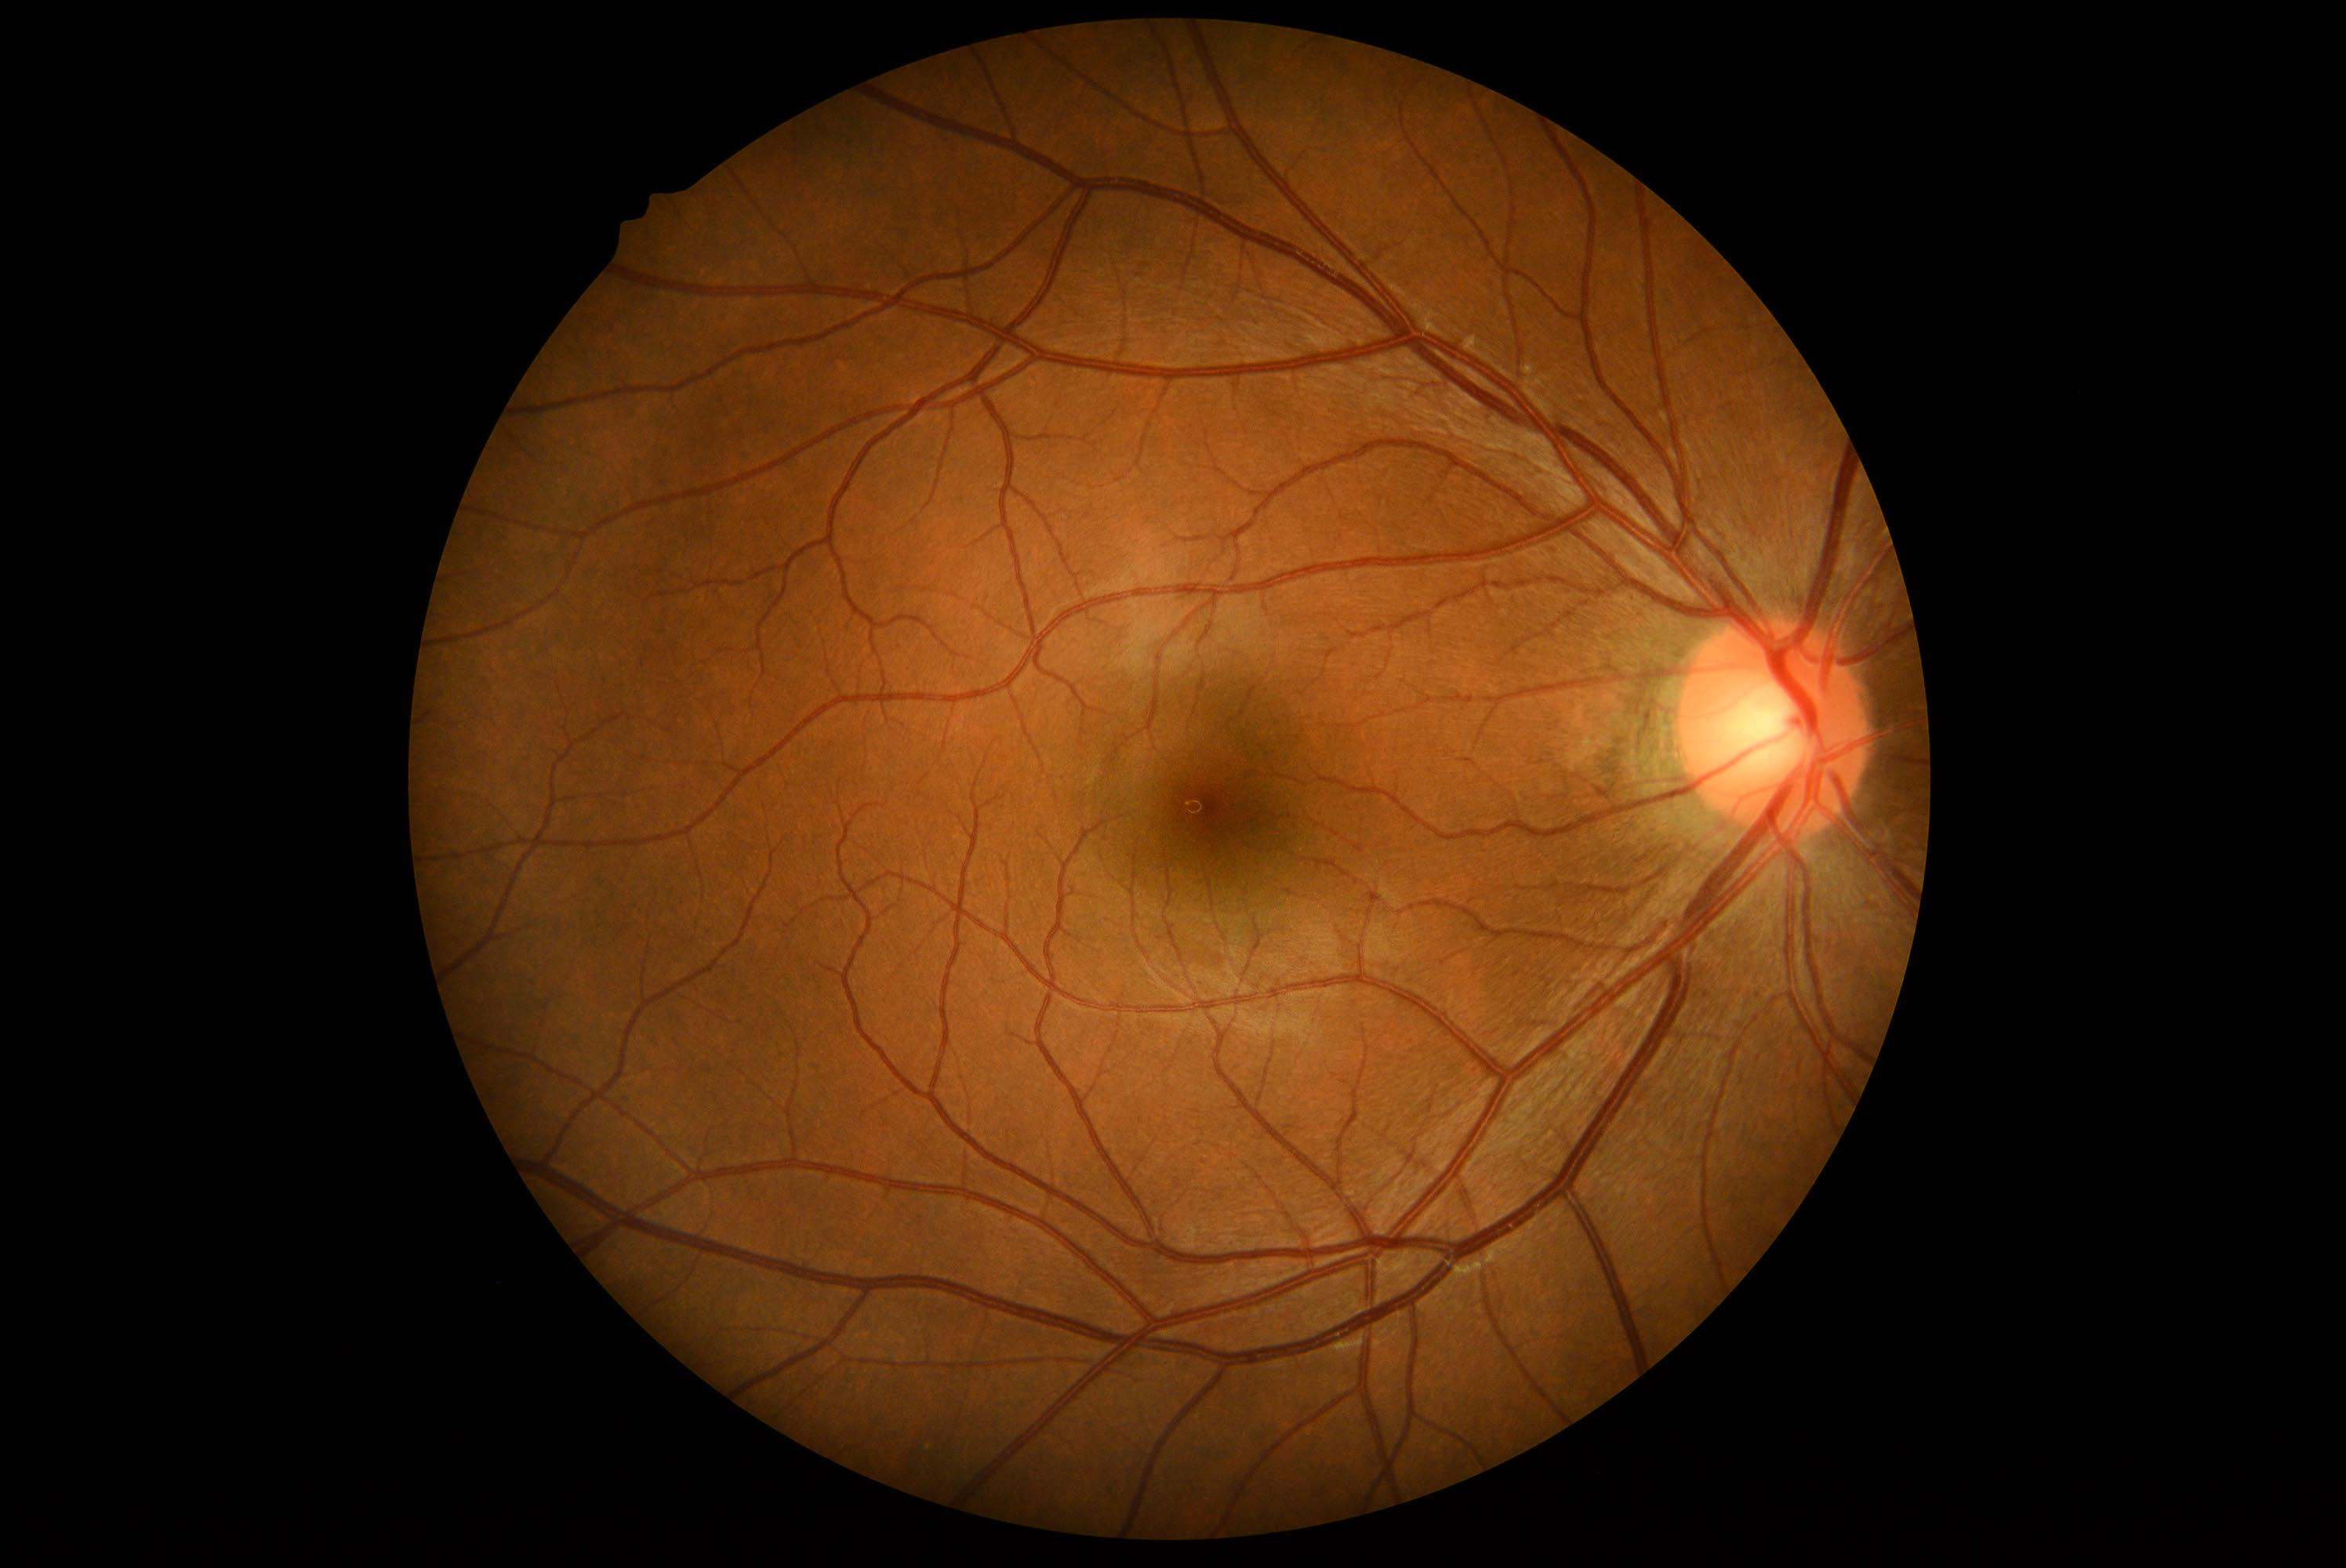Fovea: (1120, 732, 1272, 884)
